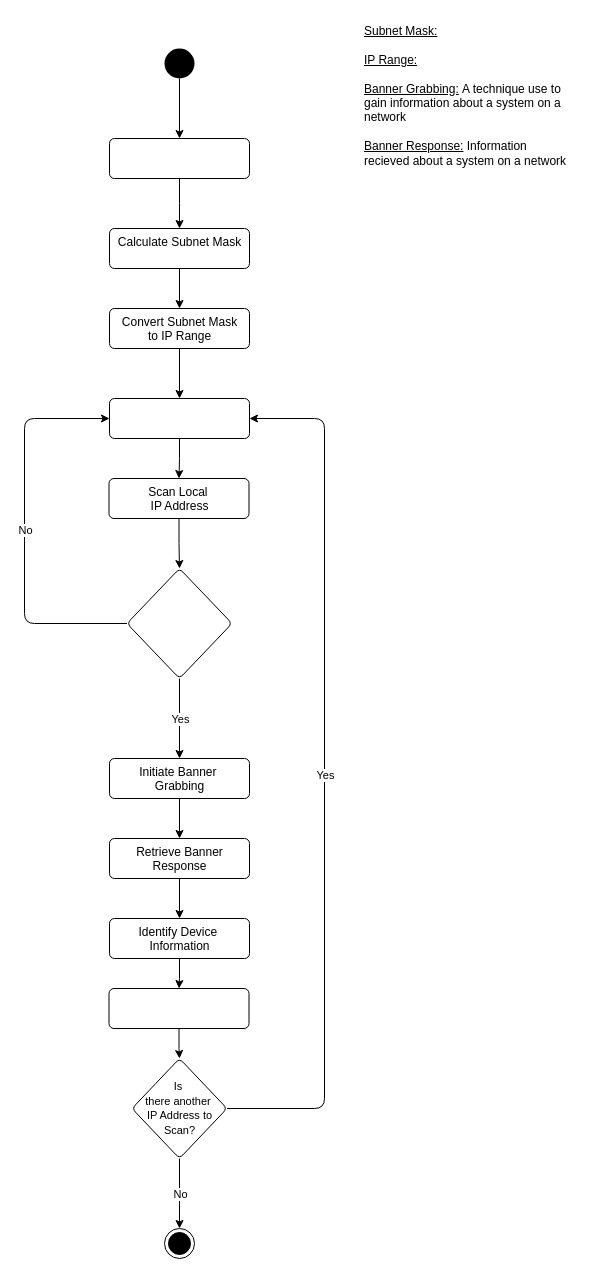
This 590x1276 diagram has some shape labels left out. Here are the shapes that lost their labels. From the top down, the centre of each, then its label:
At (179,158): "Retrieve Local Network Address".
At (179,418): "Identify IP to Scan".
At (179,623): "Is there a device connected?".
At (178,1008): "Store to Local Storage".
